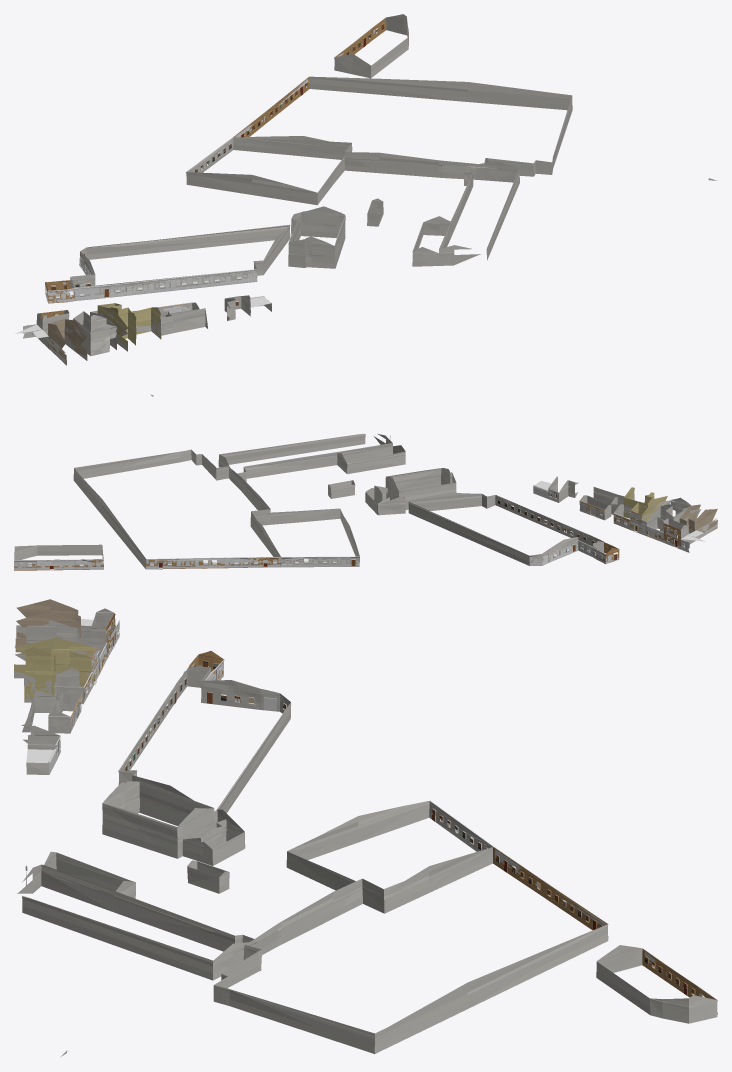
Rendered from zona_3_-1.glb.
The picture shows the model from 3 angles, top to bottom: view 1: azimuth 30°, elevation 25°; view 2: azimuth 150°, elevation 25°; view 3: azimuth 270°, elevation 25°; orthographic projection. The views are drawn at different scales.
Parts seen in each view (by area): view 1: z_casas_3_-1, z_fachadas_3_-1, z_casas_planas_3_-1; view 2: z_casas_3_-1, z_fachadas_3_-1, z_casas_planas_3_-1; view 3: z_casas_3_-1, z_fachadas_3_-1, z_casas_planas_3_-1.
Boxes of the visible parts, bbox=[...] form: z_casas_3_-1: bbox=[36, 14, 717, 365]; z_fachadas_3_-1: bbox=[27, 17, 385, 325]; z_casas_planas_3_-1: bbox=[15, 251, 453, 363]; z_casas_3_-1: bbox=[14, 395, 717, 570]; z_fachadas_3_-1: bbox=[14, 435, 686, 570]; z_casas_planas_3_-1: bbox=[390, 435, 717, 552]; z_casas_3_-1: bbox=[14, 599, 717, 1056]; z_fachadas_3_-1: bbox=[26, 613, 717, 1014]; z_casas_planas_3_-1: bbox=[16, 619, 119, 885].
Bounding box in the file's own units: 206 × 8.95 × 138.
